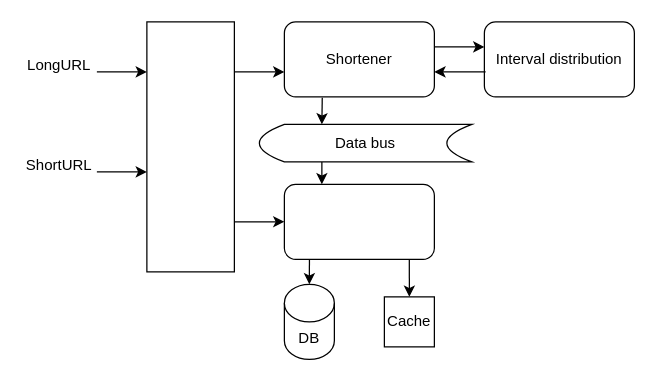
Image size: 656x381. Some labels were removed from this diagram. The centre of each missing label's shape, as x and y in pixels:
Gateway: the point at 190,146
Guardian: the point at 358,221
